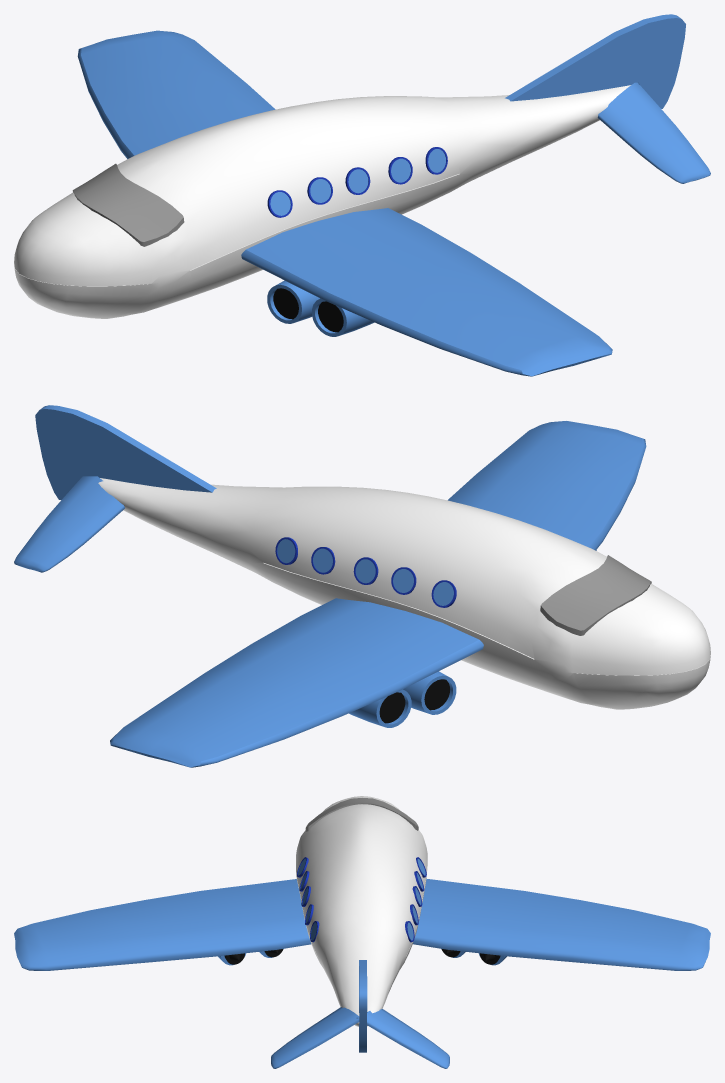
File: Airplane1.FBX
3 views of the same model, one above another, from view 1: azimuth 30°, elevation 25°; view 2: azimuth 150°, elevation 25°; view 3: azimuth 270°, elevation 25° (orthographic). The views are drawn at different scales.
Parts seen in each view (by area): view 1: Airplane; view 2: Airplane; view 3: Airplane.
Boxes of the visible parts, <box> form: Airplane: <box>14,14,710,376</box>; Airplane: <box>14,405,710,767</box>; Airplane: <box>14,796,710,1068</box>.
Bounding box in the file's own units: 356 × 80.56 × 415.
